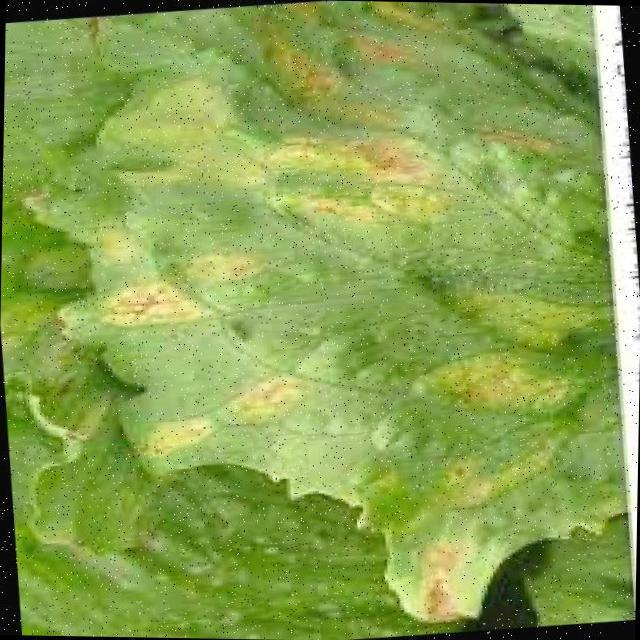Downy_Mildew: (4, 11, 612, 640)
